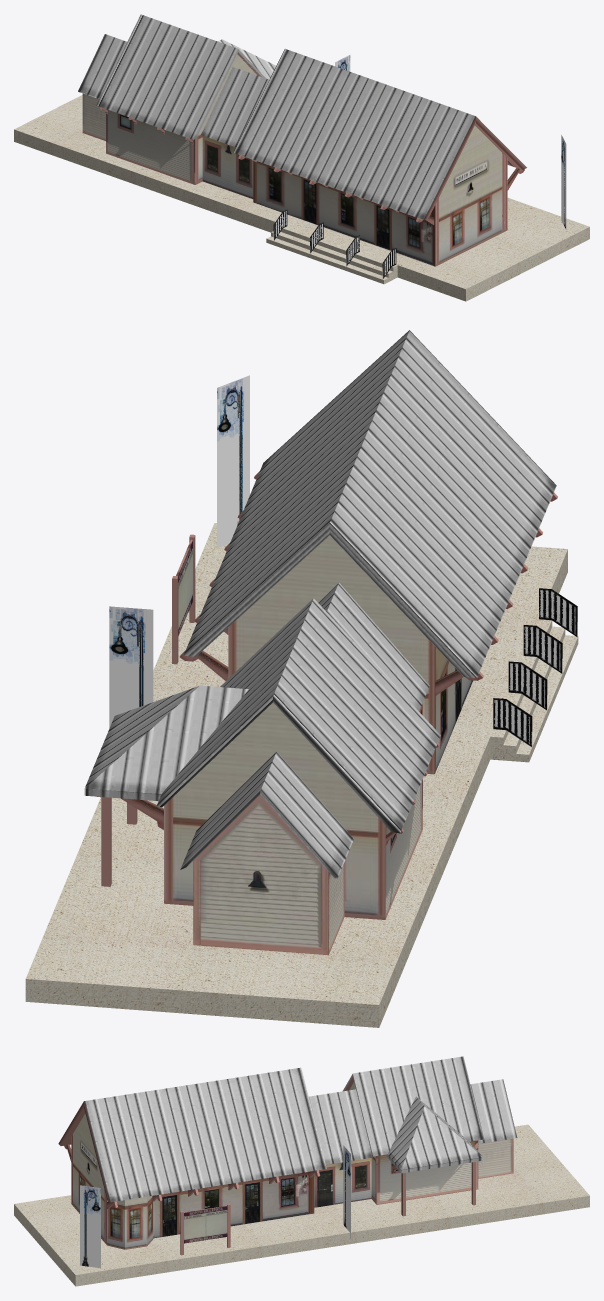
The model's file is station.dae.
3 renders of one model, top to bottom at view 1: azimuth 30°, elevation 25°; view 2: azimuth 150°, elevation 25°; view 3: azimuth 270°, elevation 25°, orthographic. The views are drawn at different scales.
Visible parts, largest first — view 1: Group1, Group2, Group5, Group3, Group4, Train_Lamp; view 2: Group2, Group1, Group5, Group3, Train_Lamp (×2), Railing (×4), Group4, Pole; view 3: Group2, Group1, Group5, Group3, Group4, Train_Lamp (×2).
Boxes of the visible parts, left/top/right/bottom form: Group1: left=233, top=49, right=526, bottom=220; Group2: left=14, top=34, right=589, bottom=301; Group5: left=96, top=14, right=275, bottom=184; Group3: left=253, top=125, right=507, bottom=266; Group4: left=201, top=67, right=269, bottom=198; Train_Lamp: left=561, top=135, right=566, bottom=229; Group2: left=25, top=523, right=578, bottom=1027; Group1: left=183, top=330, right=556, bottom=678; Group5: left=84, top=598, right=440, bottom=919; Group3: left=228, top=535, right=473, bottom=774; Train_Lamp (×2): left=109, top=375, right=249, bottom=728; Railing (×4): left=493, top=588, right=577, bottom=746; Group4: left=318, top=583, right=429, bottom=716; Pole: left=101, top=797, right=111, bottom=886; Group2: left=14, top=1074, right=589, bottom=1286; Group1: left=58, top=1067, right=326, bottom=1202; Group5: left=345, top=1056, right=483, bottom=1204; Group3: left=71, top=1113, right=314, bottom=1249; Group4: left=309, top=1089, right=372, bottom=1207; Train_Lamp (×2): left=80, top=1145, right=350, bottom=1268.
Size of the model in its own units: 868 by 1402 by 365.
